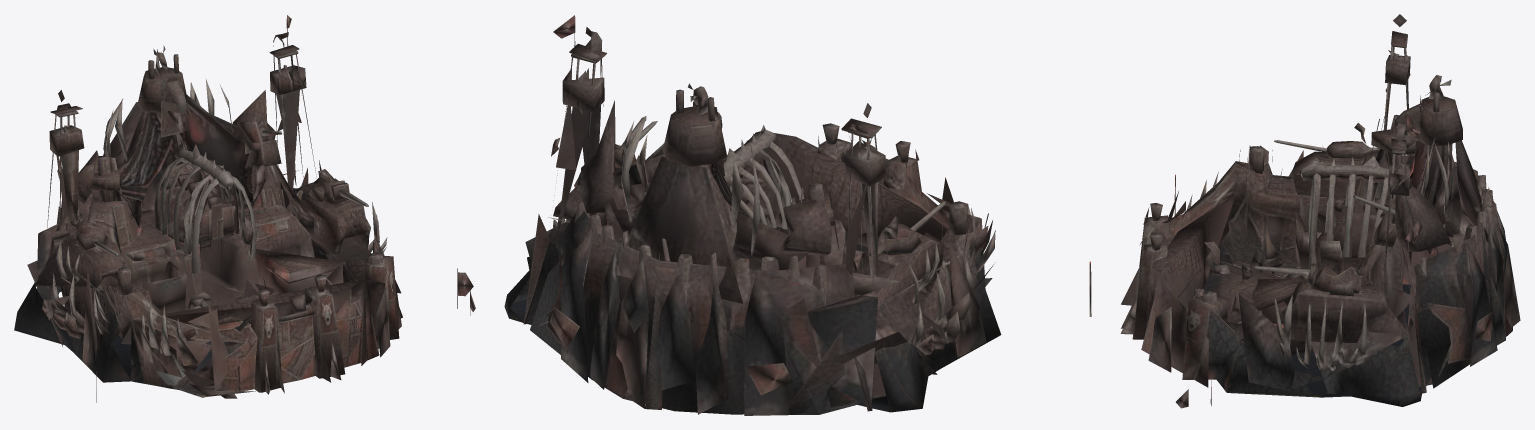
Rendered from pack.glb.
The picture shows the model from 3 angles, left to right: view 1: azimuth 30°, elevation 25°; view 2: azimuth 150°, elevation 25°; view 3: azimuth 270°, elevation 25°; orthographic projection. The views are drawn at different scales.
Bounding box in the file's own units: 0.9463 × 0.5718 × 0.7856.
1 material, 1 textured.
